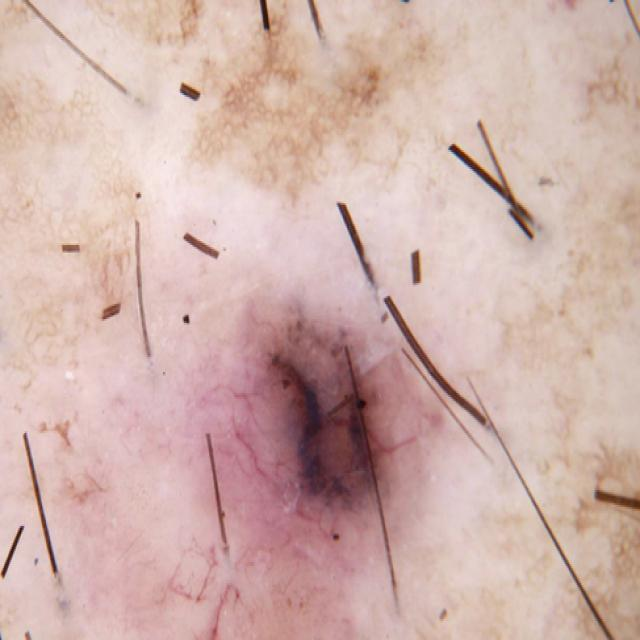Carcinoma: (170, 247, 541, 631)
